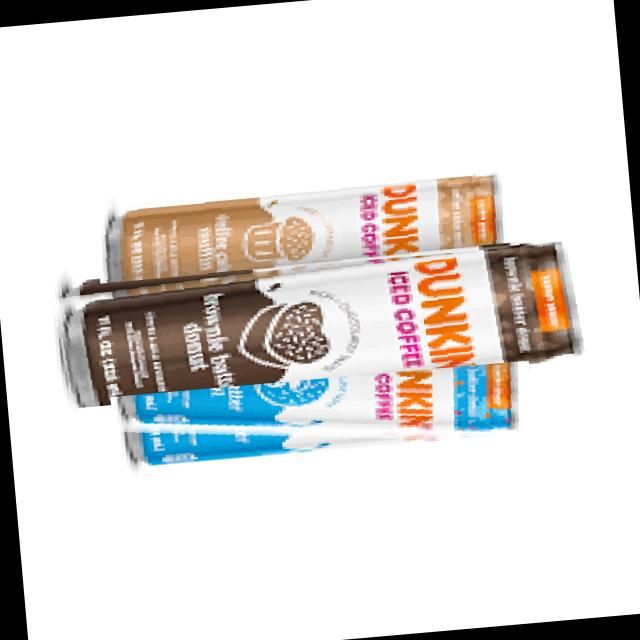Cans: (48, 230, 584, 409), (91, 159, 514, 283), (109, 360, 534, 477)
